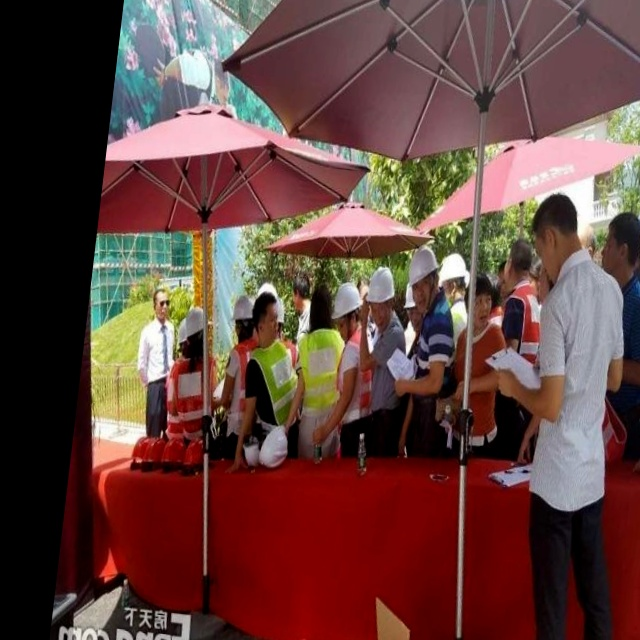Con_Casco: (405, 243, 444, 311)
Sin_Casco_Mascarrilla: (526, 188, 581, 283)
Sin_Chaleco: (525, 262, 628, 481)
